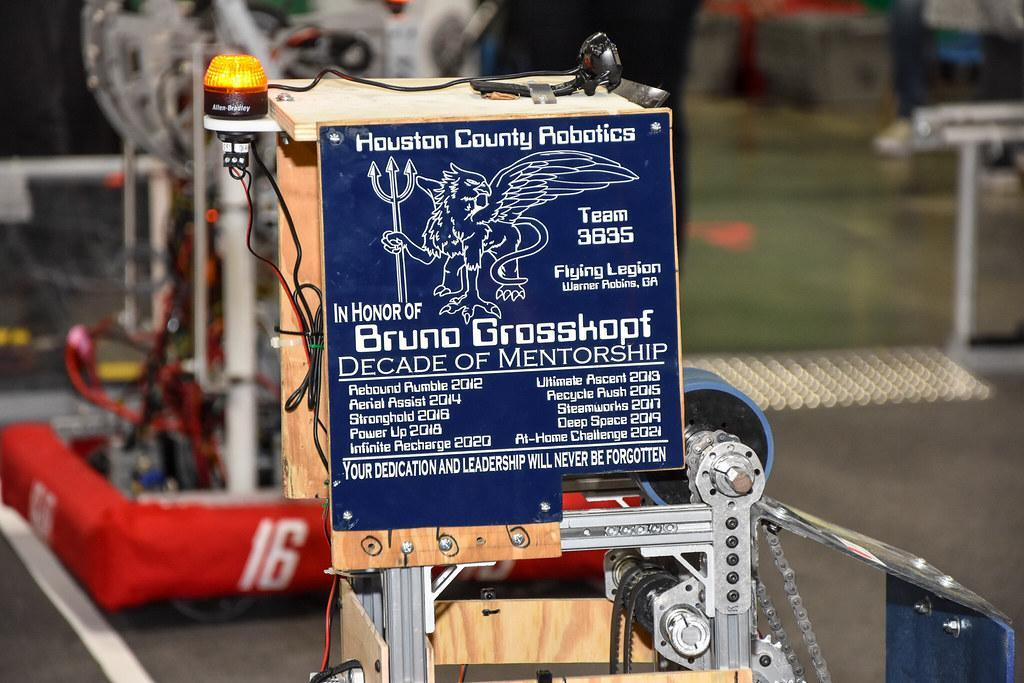robot: (195, 29, 1021, 683), (2, 0, 653, 620)
